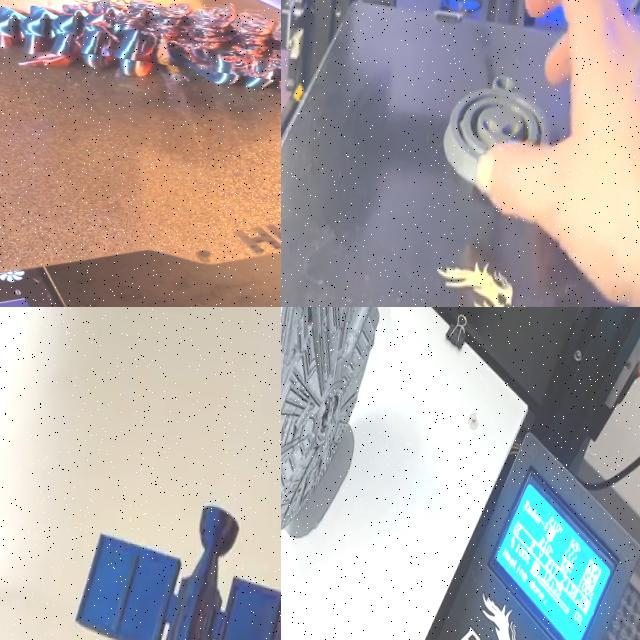spaghetti: (81, 0, 281, 106)
